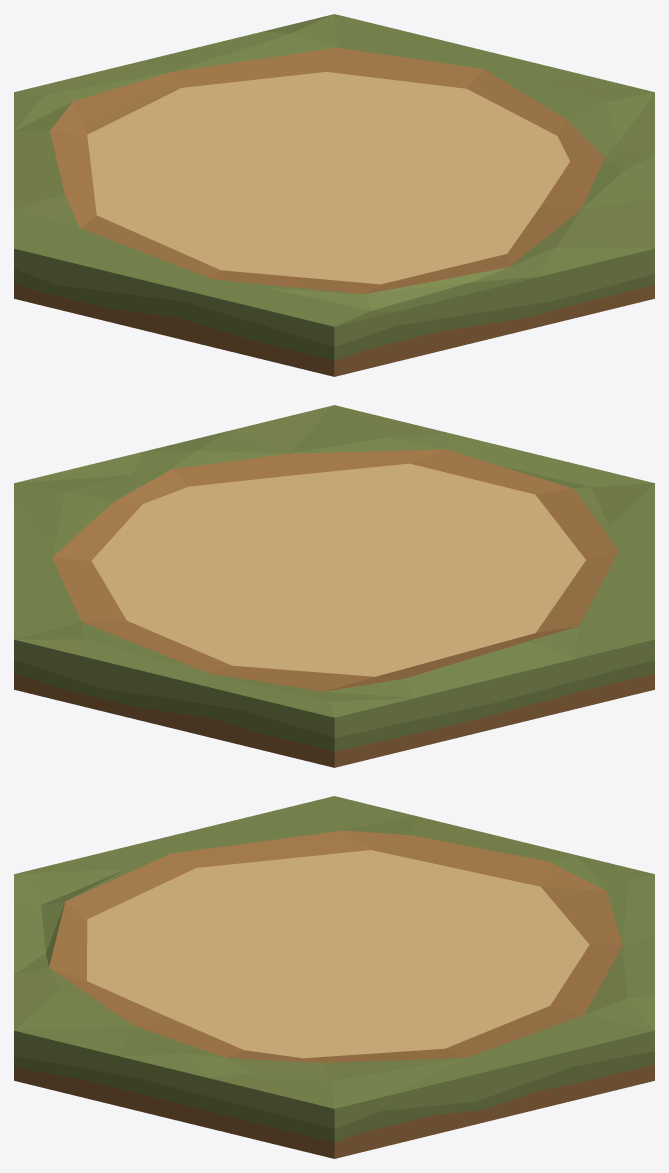
File: SM_Tile_Hex_Flat_03.glb
3 renders of one model, top to bottom at view 1: azimuth 30°, elevation 25°; view 2: azimuth 150°, elevation 25°; view 3: azimuth 270°, elevation 25°, orthographic.
Parts seen in each view (by area): view 1: SM_Tile_Hex_Flat_03; view 2: SM_Tile_Hex_Flat_03; view 3: SM_Tile_Hex_Flat_03.
Boxes of the visible parts, x1,y1,x2,y2 form: SM_Tile_Hex_Flat_03: (14,14,654,376); SM_Tile_Hex_Flat_03: (14,405,654,767); SM_Tile_Hex_Flat_03: (14,796,654,1158).
Size of the model in its own units: 5.77 by 0.469 by 5.
1 material, 1 textured.
